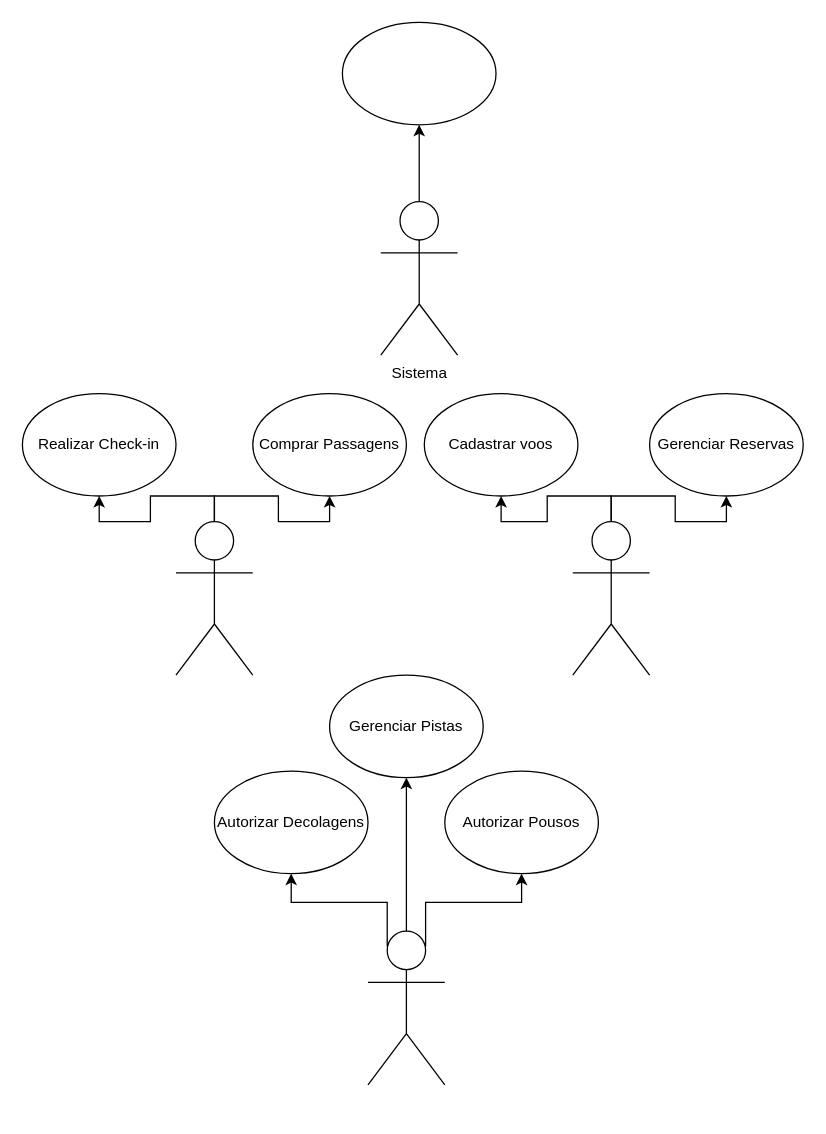
Some shapes in this 826 by 1134 pixel diagram are drawn without their labels. Each missing label, with the centre of its shape:
Companhias Aéreas: the point at 611,597
Gerenciar Operações Aeroportuárias: the point at 418,73
Passageiros: the point at 214,597
Torre de Controle: the point at 406,1007
